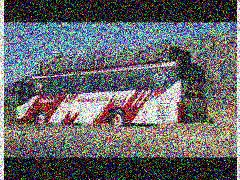bus: (13, 47, 211, 128)
